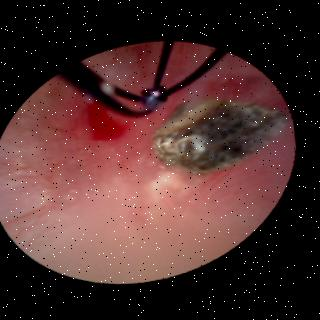stone: (156, 101, 287, 174)
tissue: (0, 82, 293, 279)
